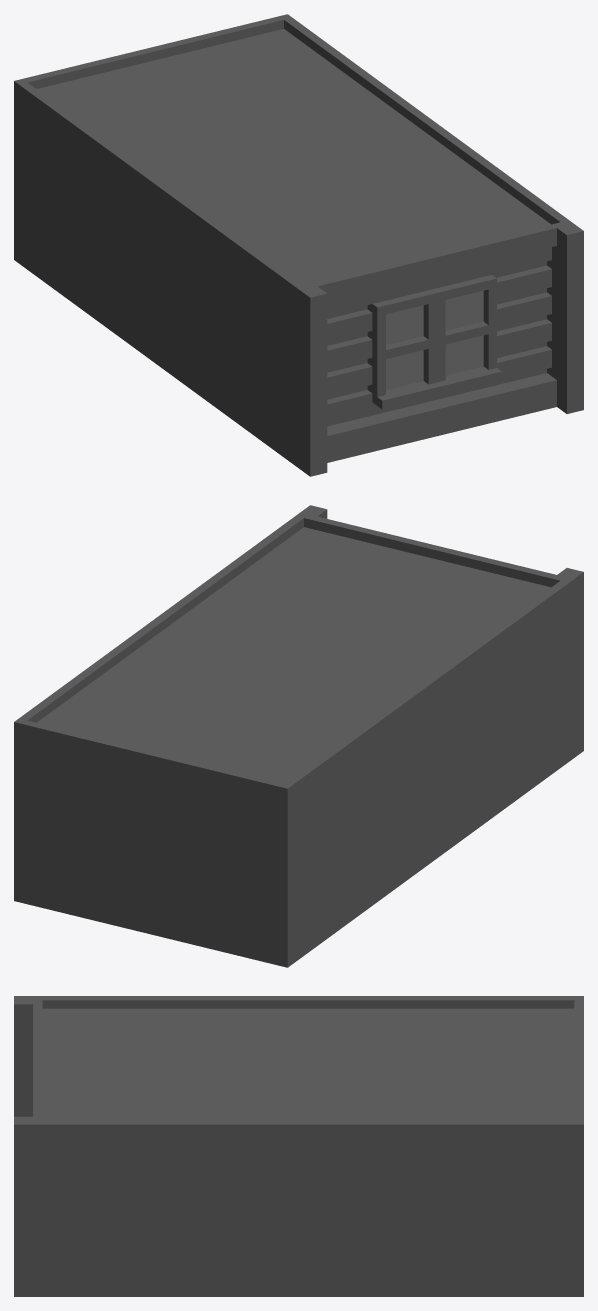
File: bld_story03.obj
The picture shows the model from 3 angles, top to bottom: view 1: azimuth 30°, elevation 25°; view 2: azimuth 150°, elevation 25°; view 3: azimuth 270°, elevation 25°; orthographic projection. The views are drawn at different scales.
Bounding box in the file's own units: 32 × 20 × 60.
